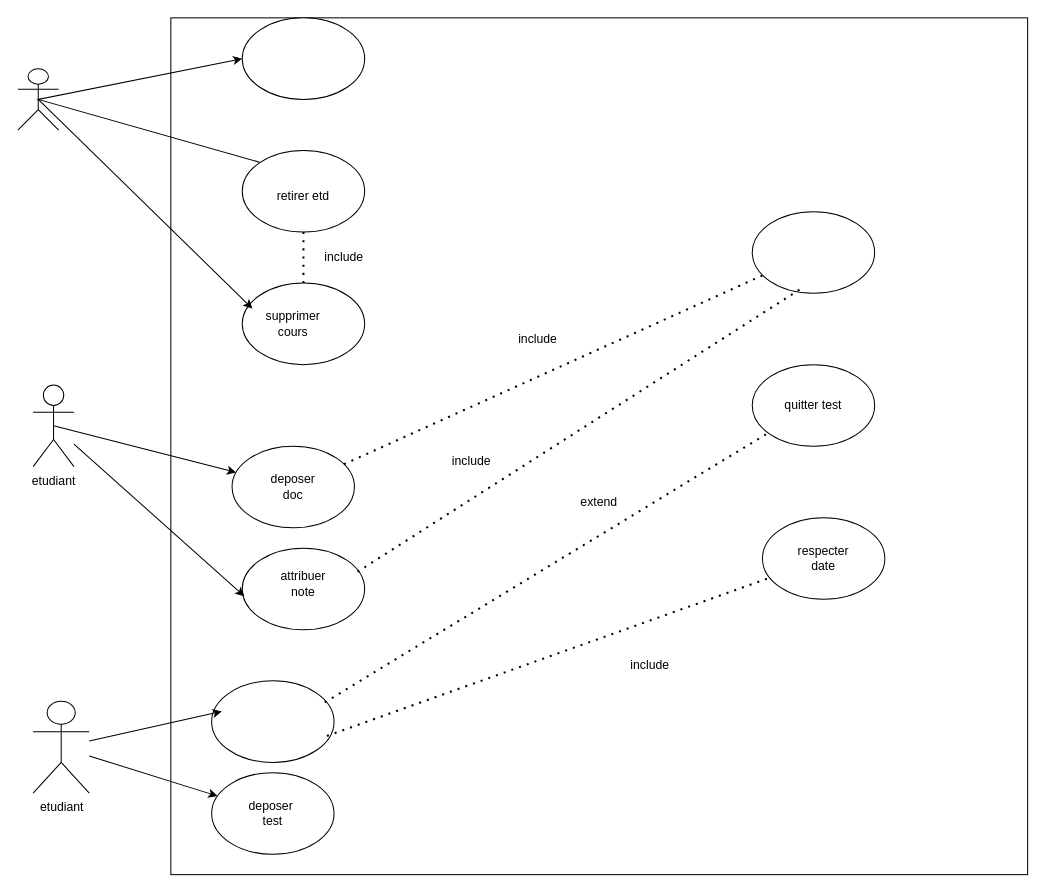
This 1046x893 diagram has some shape labels left out. Here are the shapes that lost their labels. From the top down, the centre of each, then its label:
point (303, 58): inserer etd
point (38, 99): admin
point (813, 252): s'identifier
point (272, 721): passer test
